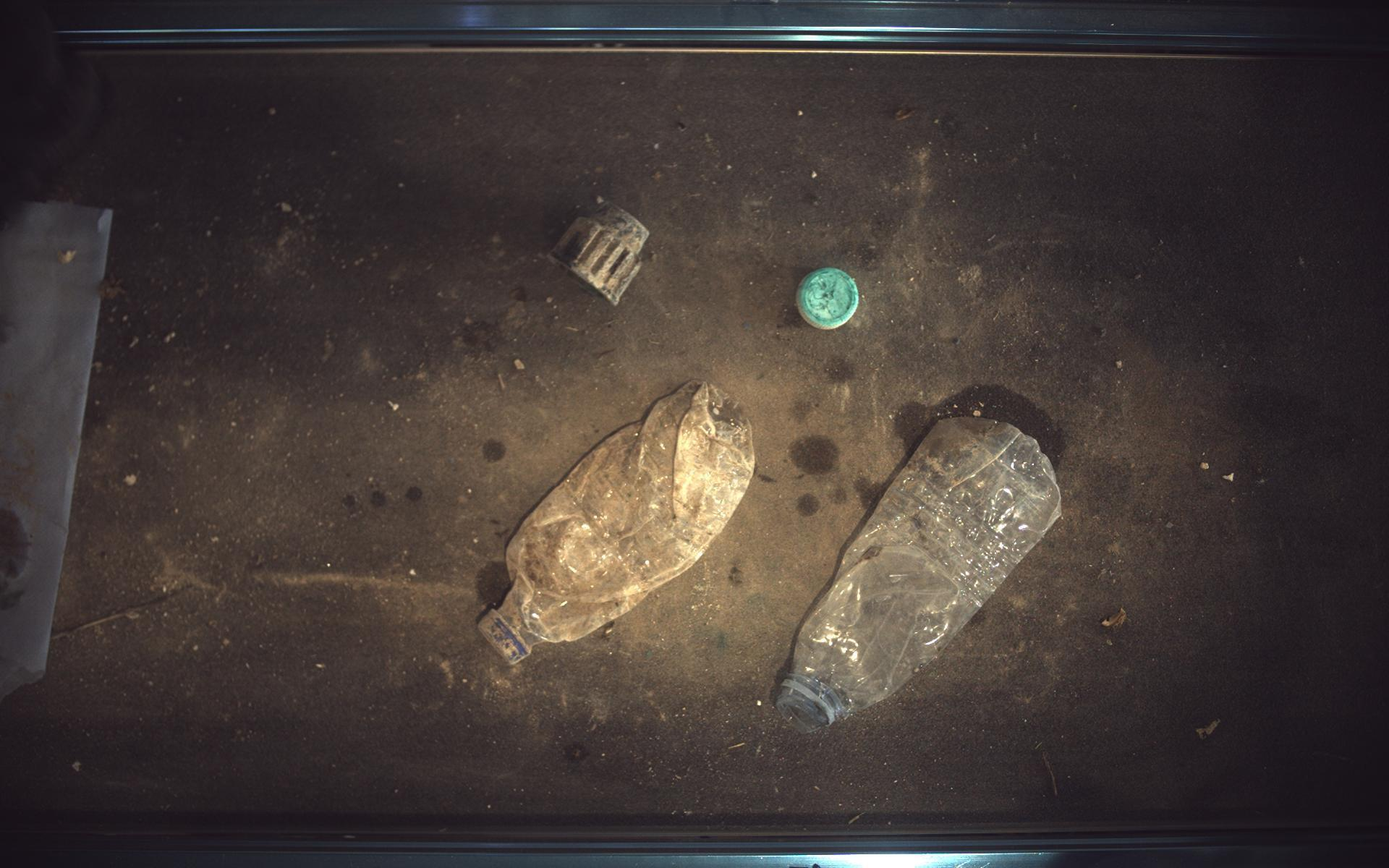general_w: (778, 417, 1063, 733), (478, 381, 756, 665), (798, 267, 861, 329)
plastic: (551, 202, 650, 305)
